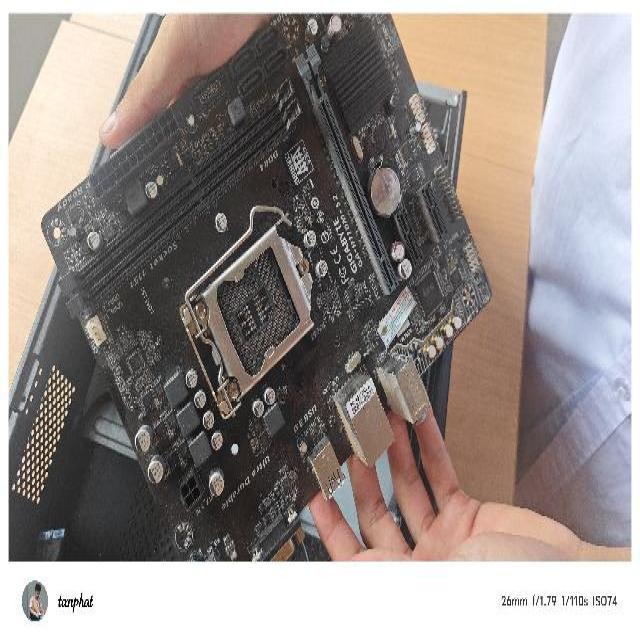Mainboard: (40, 14, 492, 562)
